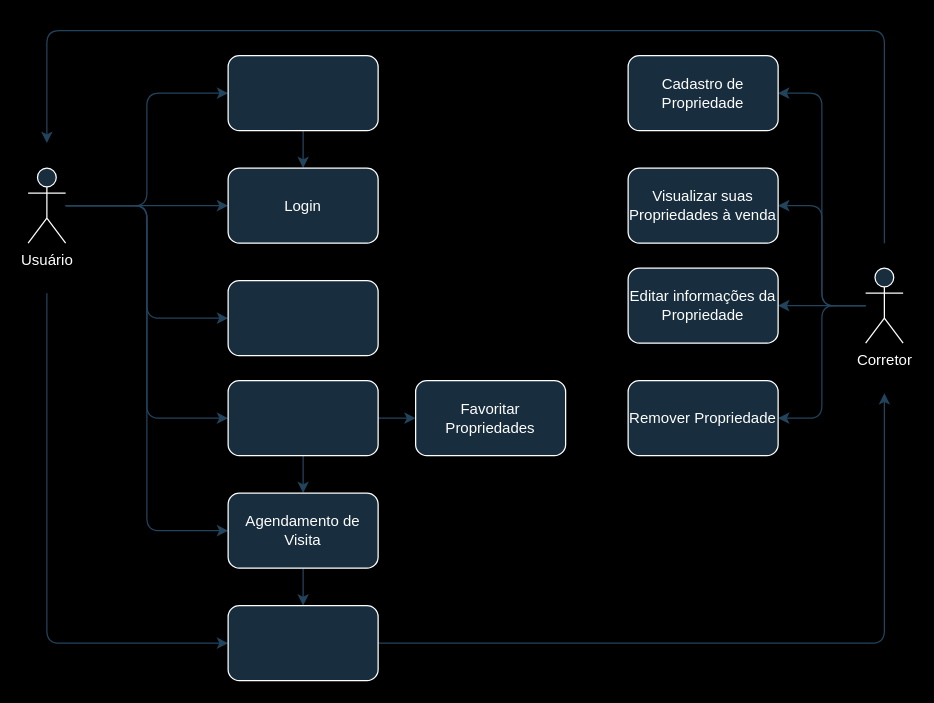
This 934x703 diagram has some shape labels left out. The centre of each missing label's shape, as x and y in pixels:
"Gerenciamento de Perfil" belongs at (302,317).
"Mensagem" belongs at (302,642).
"Pesquisa de Propriedades" belongs at (302,417).
"Registro de Usuário" belongs at (302,92).
